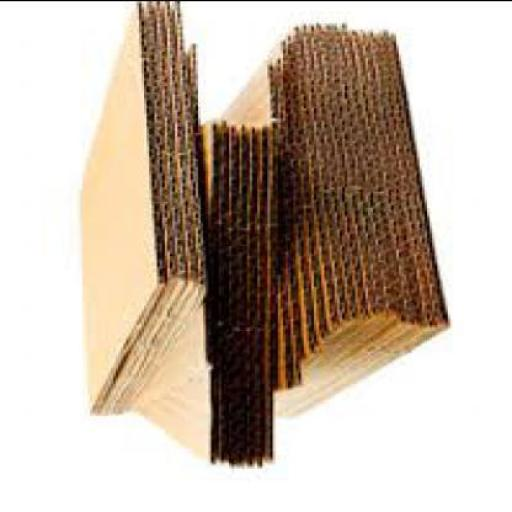cardboard: (206, 24, 448, 417), (75, 2, 208, 418), (306, 30, 445, 413), (139, 124, 276, 470), (80, 2, 162, 415), (101, 2, 175, 415), (306, 32, 386, 409), (113, 2, 180, 410), (309, 29, 380, 401), (145, 126, 221, 468), (126, 4, 188, 408), (139, 47, 201, 405), (214, 65, 270, 390), (272, 44, 304, 414), (230, 126, 244, 465), (258, 128, 272, 464), (242, 127, 254, 467), (217, 126, 229, 465), (276, 67, 288, 391), (281, 66, 293, 389)
